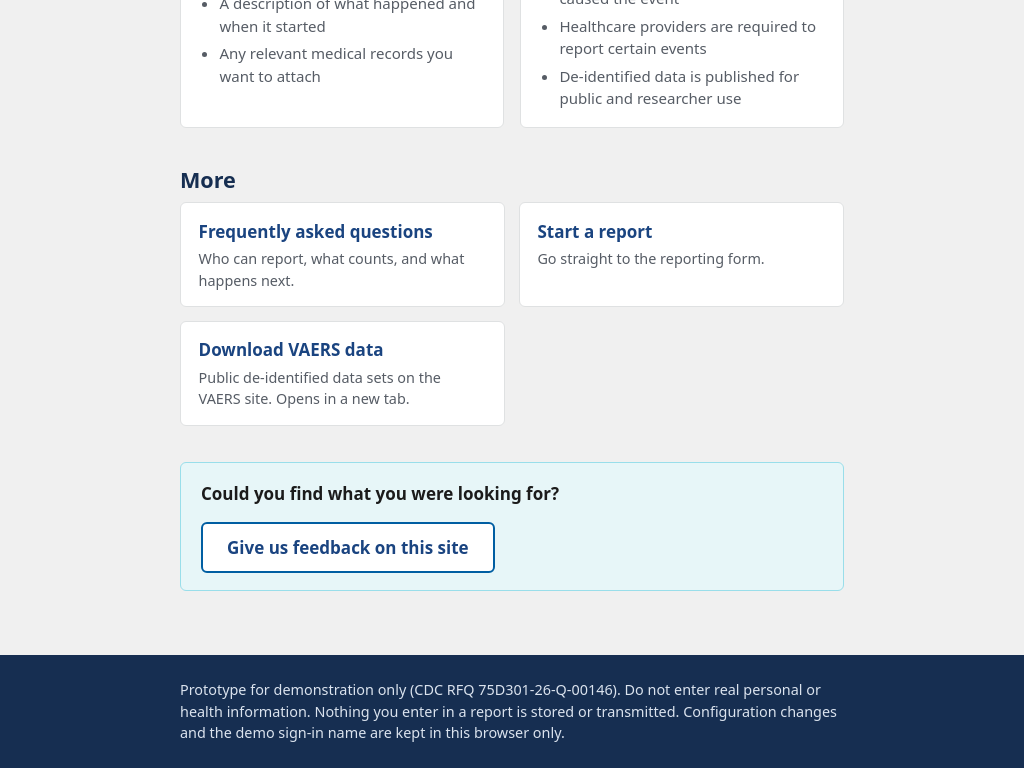
it: accessibility: landing page › has no violations with the site navigation survey open
(page scrolled)
Click the button "Give us feedback on this site" at (348, 547), box top-left (201, 522), bottom-right (495, 572)
(page scrolled)
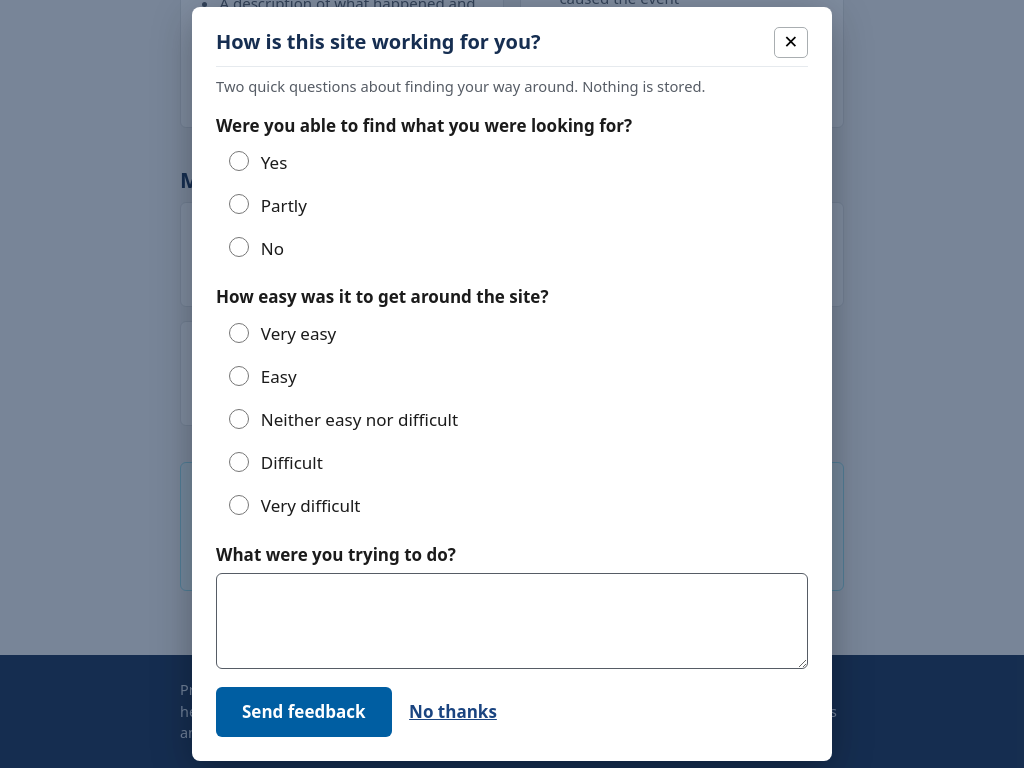
Result: the dialog is shown
